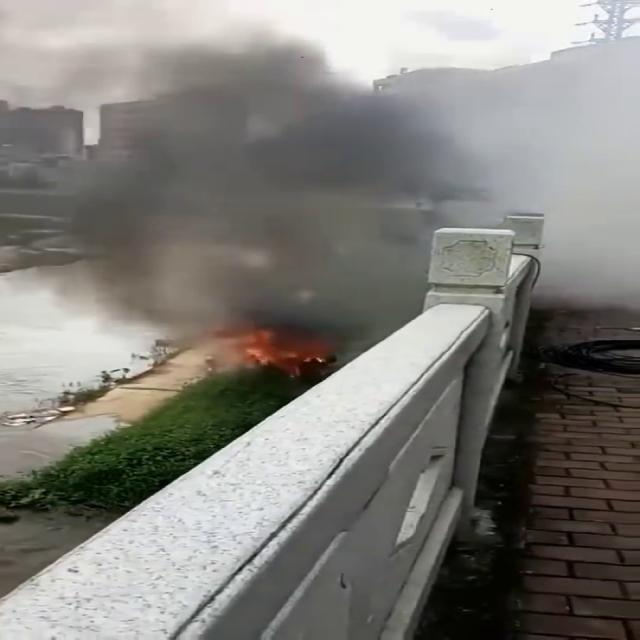Fire: (171, 329, 288, 376)
Smoke: (12, 0, 640, 332)
